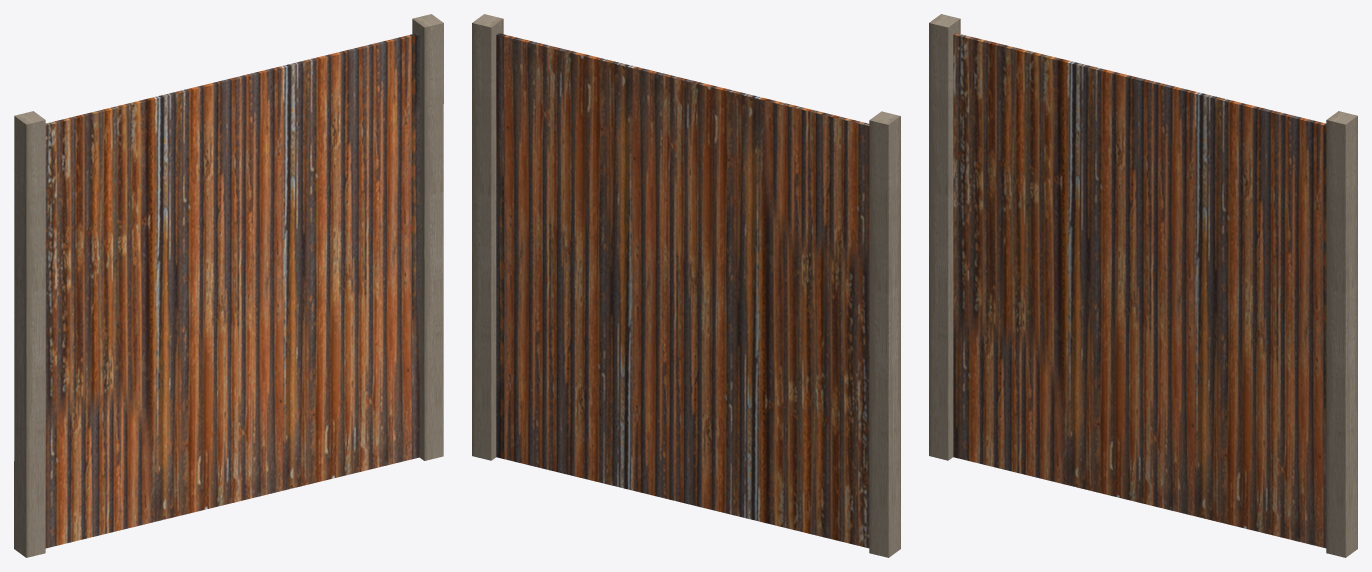
Rendered from MetalRusty1Corrugated_Panel_Rail_34_v0__sq04_342.FBX.
The picture shows the model from 3 angles, left to right: view 1: azimuth 30°, elevation 25°; view 2: azimuth 150°, elevation 25°; view 3: azimuth 330°, elevation 25°; orthographic projection.
Parts seen in each view (by area): view 1: MetalRusty1Corrugated_Panel_Rail_34_v0__sq04_342; view 2: MetalRusty1Corrugated_Panel_Rail_34_v0__sq04_342; view 3: MetalRusty1Corrugated_Panel_Rail_34_v0__sq04_342.
Part boxes in pixels (left/top/right/bottom): MetalRusty1Corrugated_Panel_Rail_34_v0__sq04_342: left=14, top=14, right=443, bottom=557; MetalRusty1Corrugated_Panel_Rail_34_v0__sq04_342: left=472, top=14, right=900, bottom=557; MetalRusty1Corrugated_Panel_Rail_34_v0__sq04_342: left=929, top=14, right=1357, bottom=557.
Bounding box in the file's own units: 20.66 × 20.51 × 1.07.
